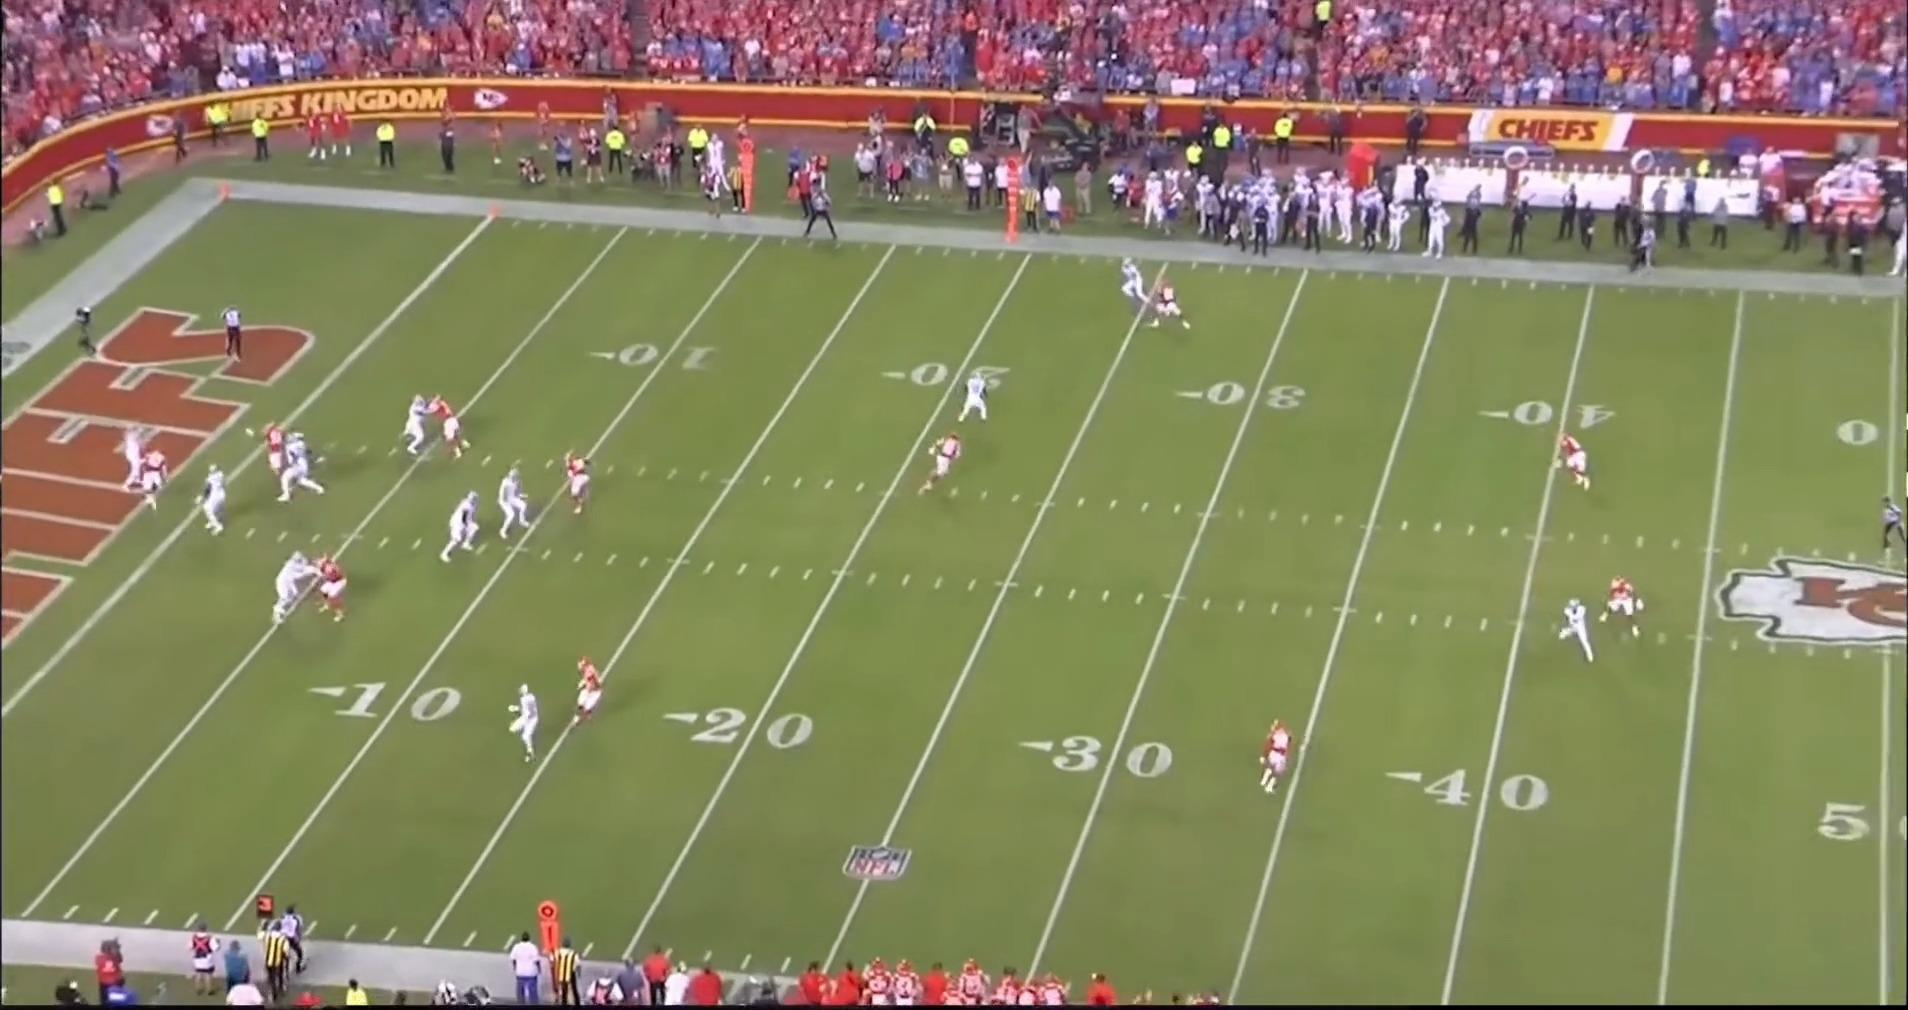defense: (1255, 723, 1298, 799), (1599, 576, 1646, 641), (134, 446, 179, 513), (917, 433, 965, 495), (1554, 430, 1597, 495), (308, 554, 349, 622), (430, 397, 471, 464), (1145, 279, 1192, 333), (569, 658, 605, 728), (557, 450, 592, 521), (265, 420, 297, 481)
oline: (277, 439, 329, 507), (273, 550, 320, 623), (438, 487, 482, 564), (493, 471, 534, 546), (201, 461, 235, 538)
qb: (117, 419, 156, 495)
ref: (270, 899, 309, 978), (803, 185, 842, 245), (220, 300, 251, 371), (1878, 494, 1908, 559), (1625, 225, 1656, 281)
skill: (1557, 595, 1604, 667), (507, 681, 546, 759), (953, 369, 999, 428), (401, 392, 439, 460), (1119, 258, 1159, 315)
